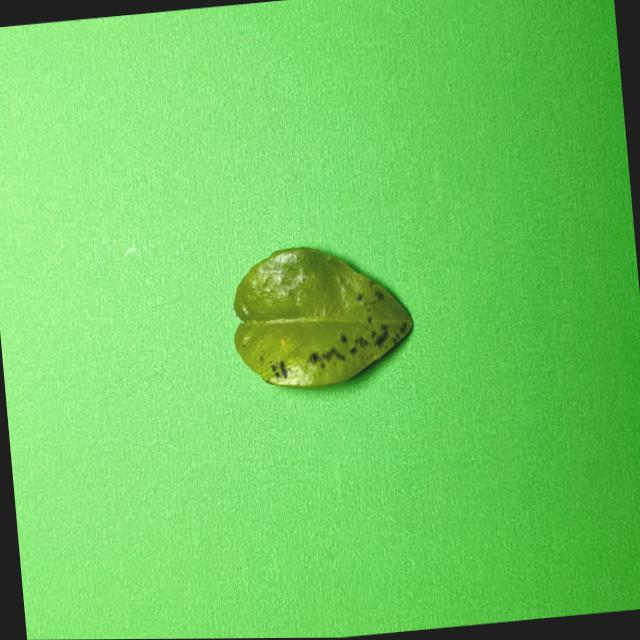sooty_mold: (233, 247, 412, 386)
